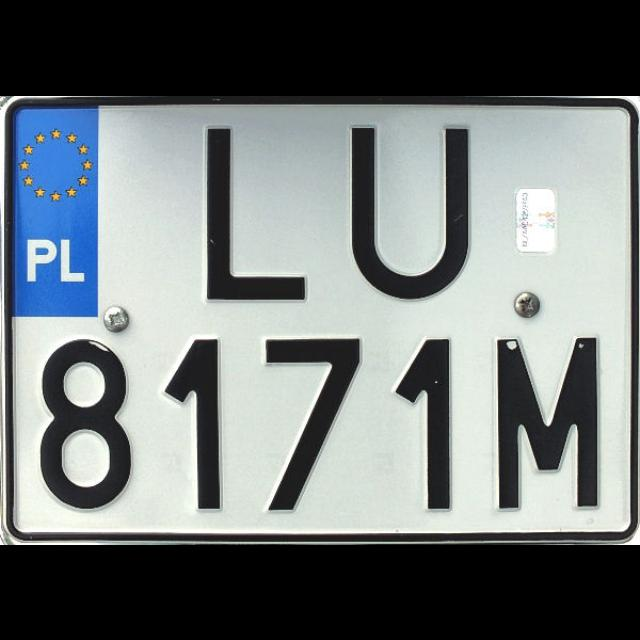pl_license_plate: (14, 105, 630, 529)
